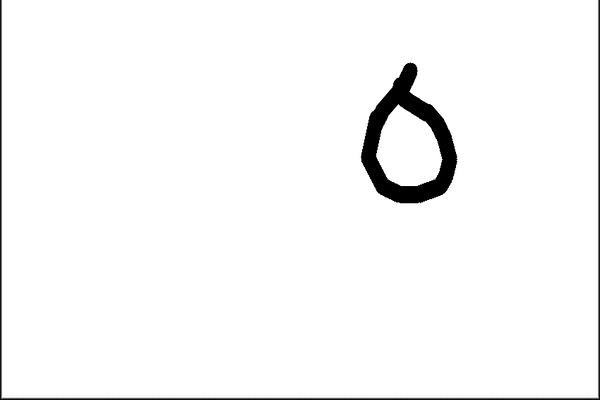O: (338, 55, 475, 213)
